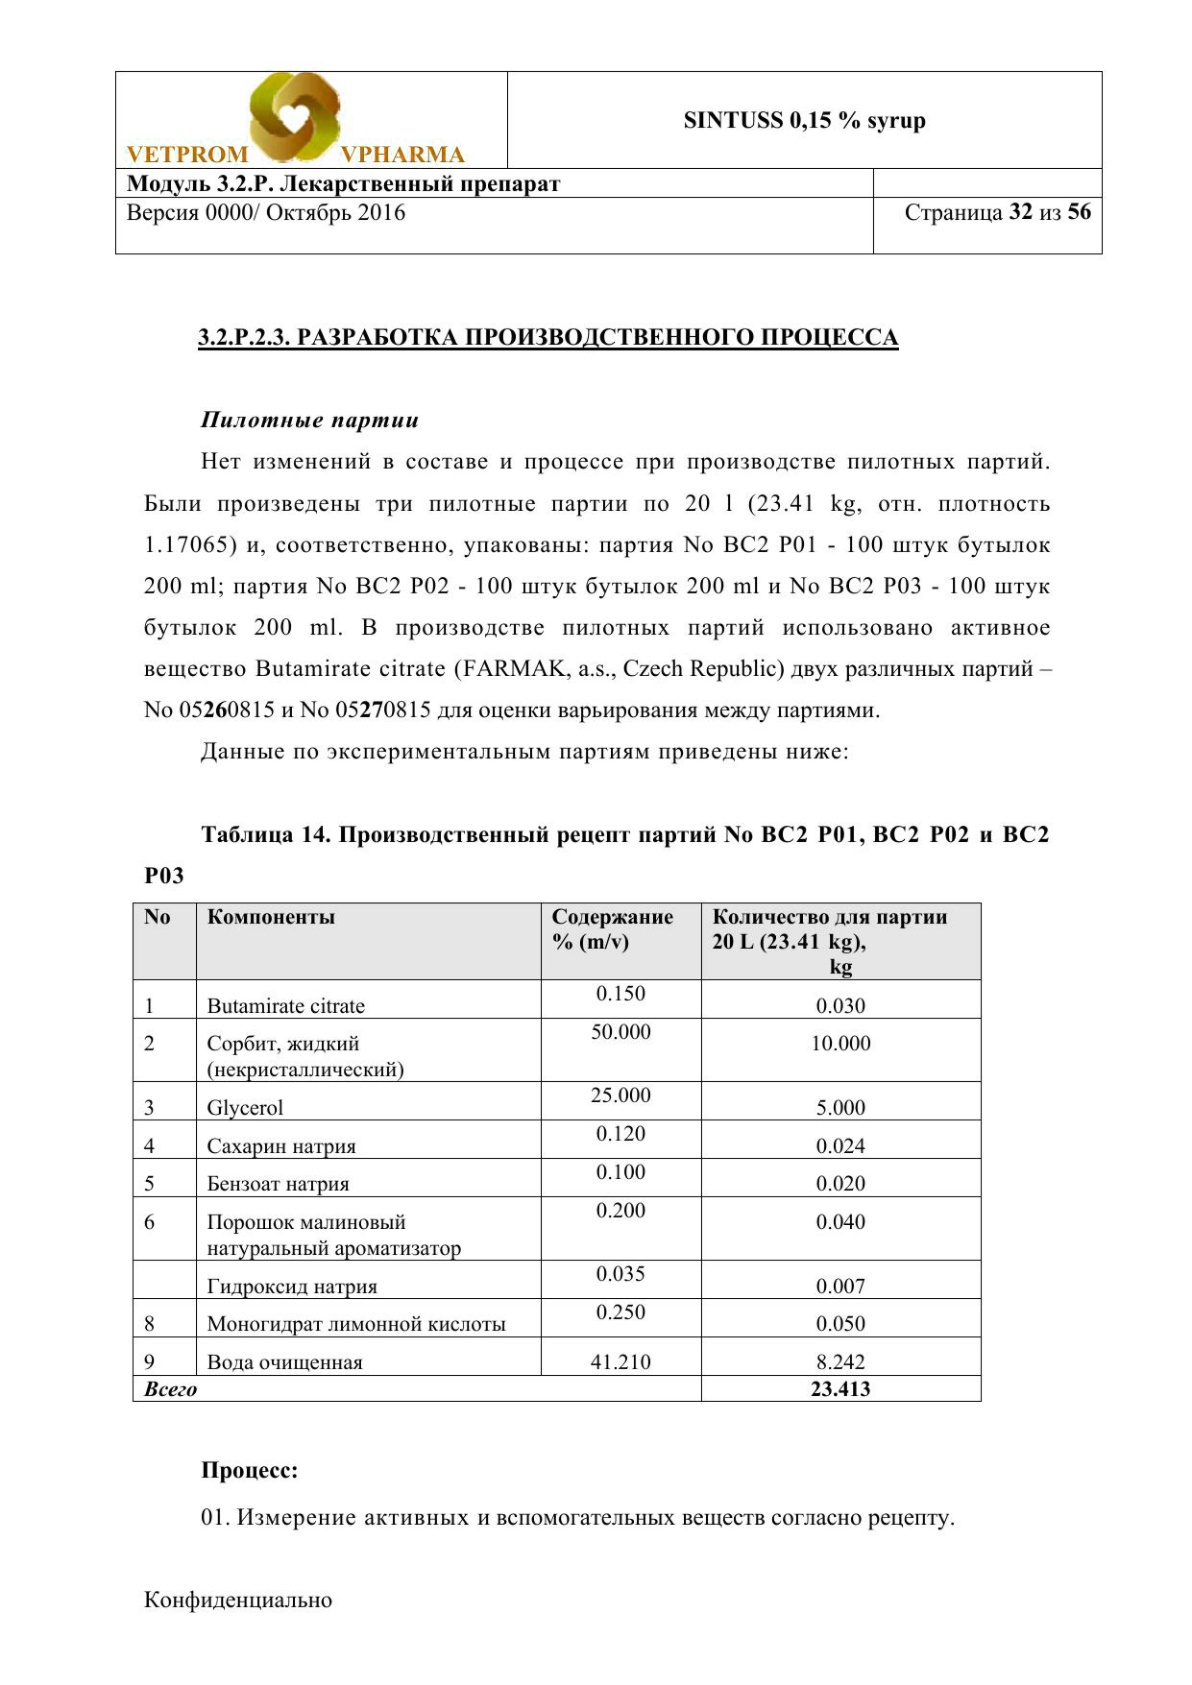merged_cells: (132, 901, 983, 1402), (114, 70, 1103, 255)
